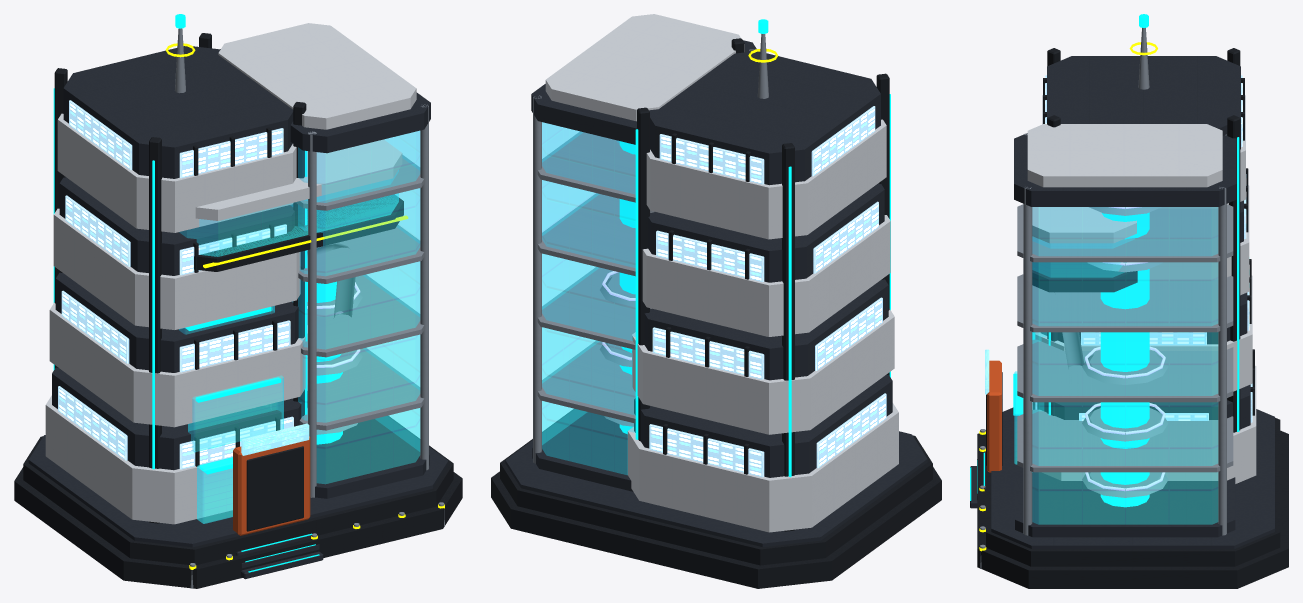
File: bldg_09_r1_05.glb
3 renders of one model, left to right at view 1: azimuth 30°, elevation 25°; view 2: azimuth 150°, elevation 25°; view 3: azimuth 270°, elevation 25°, orthographic. The views are drawn at different scales.
Visible parts, largest first — view 1: Bldg09_C05_aero_white, Bldg09_C05_carbon_slate, Bldg09_C05_glass_cyan, Bldg09_C05_gunmetal, Bldg09_C05_steel_machined, Bldg09_C05_window_lit, Bldg09_C05_led_cyan, Bldg09_C05_accent_orange, Bldg09_C05_marquee, Bldg09_C05_led_amber; view 2: Bldg09_C05_aero_white, Bldg09_C05_carbon_slate, Bldg09_C05_gunmetal, Bldg09_C05_glass_cyan, Bldg09_C05_steel_machined, Bldg09_C05_window_lit, Bldg09_C05_led_cyan; view 3: Bldg09_C05_glass_cyan, Bldg09_C05_steel_machined, Bldg09_C05_carbon_slate, Bldg09_C05_aero_white, Bldg09_C05_gunmetal, Bldg09_C05_led_cyan, Bldg09_C05_window_lit, Bldg09_C05_accent_orange, Bldg09_C05_led_uv.
Boxes of the visible parts, <box> form: Bldg09_C05_aero_white: <box>45,23,416,524</box>; Bldg09_C05_carbon_slate: <box>28,46,448,579</box>; Bldg09_C05_glass_cyan: <box>179,130,420,523</box>; Bldg09_C05_gunmetal: <box>14,33,462,588</box>; Bldg09_C05_steel_machined: <box>175,28,444,588</box>; Bldg09_C05_window_lit: <box>58,100,293,469</box>; Bldg09_C05_led_cyan: <box>53,14,342,572</box>; Bldg09_C05_accent_orange: <box>233,436,310,535</box>; Bldg09_C05_marquee: <box>241,423,309,455</box>; Bldg09_C05_led_amber: <box>165,43,444,569</box>; Bldg09_C05_aero_white: <box>545,14,898,532</box>; Bldg09_C05_carbon_slate: <box>505,40,927,547</box>; Bldg09_C05_gunmetal: <box>491,38,941,588</box>; Bldg09_C05_glass_cyan: <box>542,122,635,474</box>; Bldg09_C05_steel_machined: <box>533,34,768,463</box>; Bldg09_C05_window_lit: <box>649,106,886,477</box>; Bldg09_C05_led_cyan: <box>619,19,890,477</box>; Bldg09_C05_glass_cyan: <box>1014,207,1217,524</box>; Bldg09_C05_steel_machined: <box>980,28,1233,568</box>; Bldg09_C05_carbon_slate: <box>970,56,1274,549</box>; Bldg09_C05_aero_white: <box>1027,95,1256,483</box>; Bldg09_C05_gunmetal: <box>977,48,1288,588</box>; Bldg09_C05_led_cyan: <box>970,14,1239,507</box>; Bldg09_C05_window_lit: <box>1035,75,1252,422</box>; Bldg09_C05_accent_orange: <box>987,360,1001,472</box>; Bldg09_C05_led_uv: <box>1085,207,1165,490</box>.
Bounding box in the file's own units: 12 × 16.62 × 10.23.
11 materials, 11 textured.
